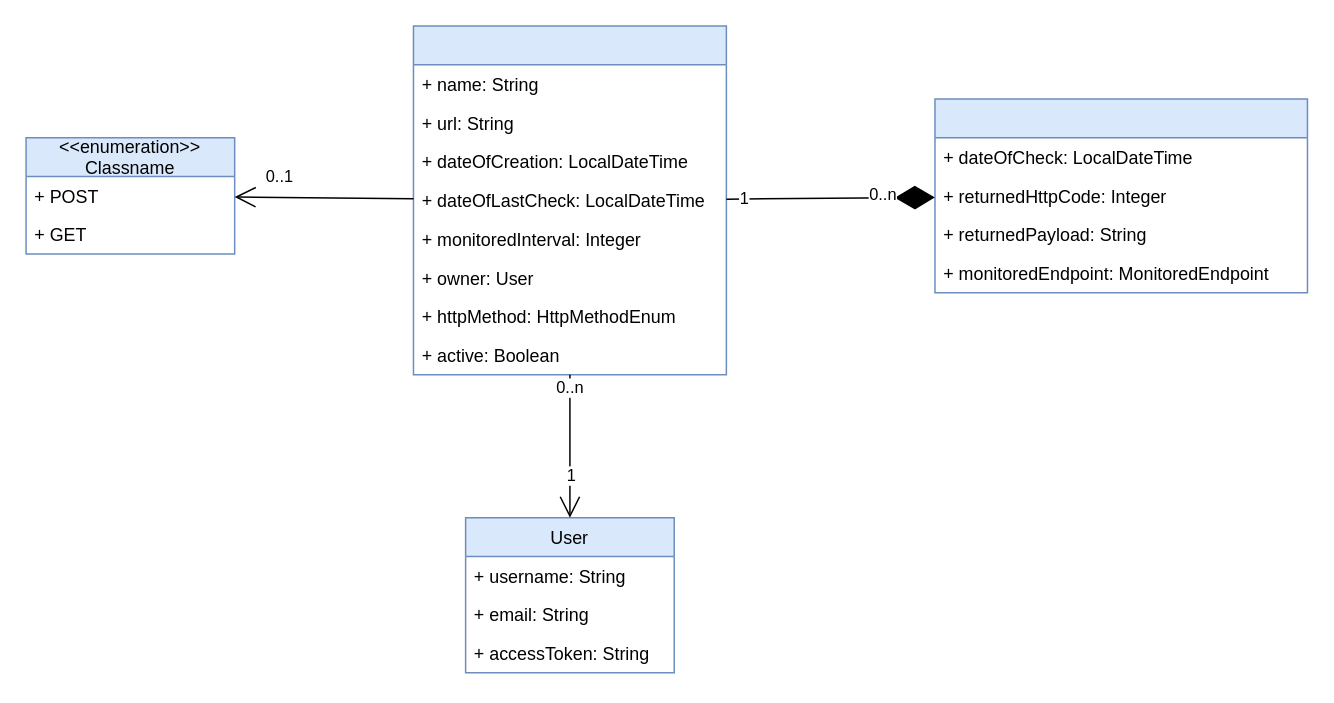
Image size: 1334x703. Some labels were removed from this diagram. Here are the shapes that lost their labels. From the top down, the box of each, then its label:
(412, 25, 726, 375): MonitoredEndpoint
(933, 98, 1307, 293): MonitoringResult
